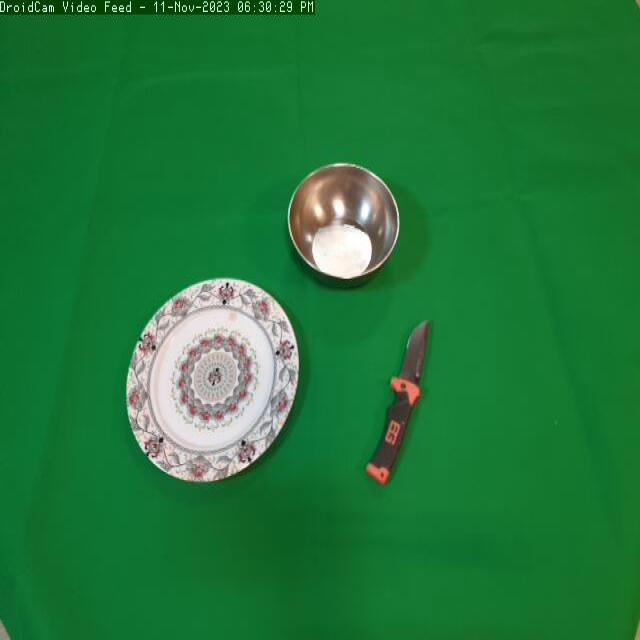bowl: (286, 158, 404, 296)
knife: (362, 310, 448, 500)
plate: (118, 273, 307, 507)
